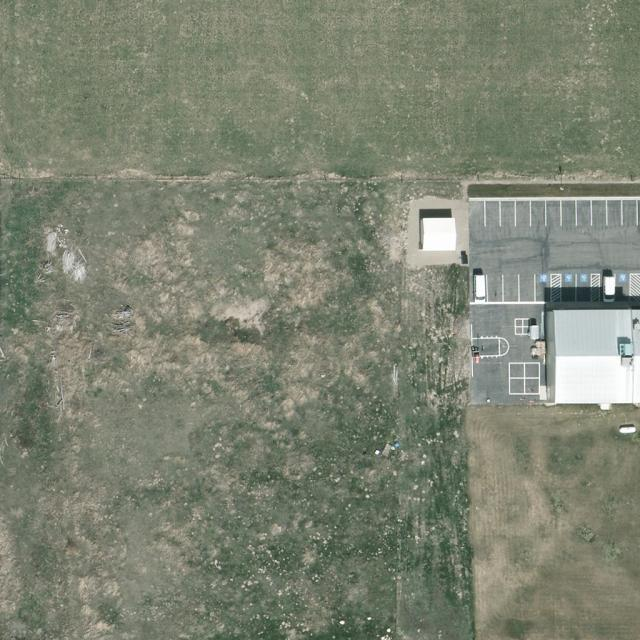vehicle: (473, 274, 488, 304), (602, 275, 616, 303)
